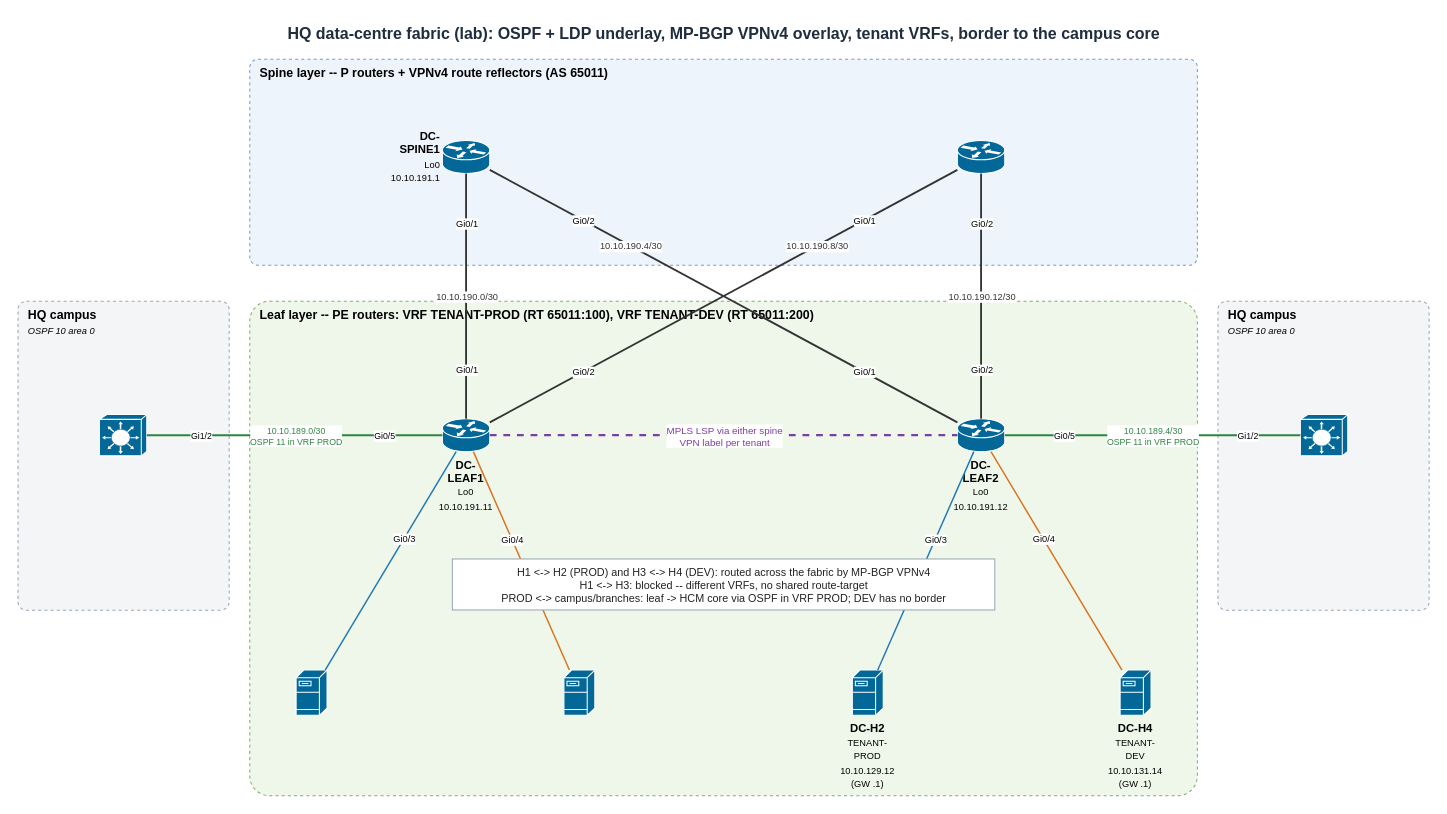
Image size: 1447x814. Some labels were removed from this diagram. Here are the shapes that lost their labels. From the top down, the box of each, then its label:
(956, 140, 1005, 174): DC-SPINE2 Lo0 10.10.191.2
(98, 414, 147, 456): HCM-CORE1
(1299, 414, 1348, 456): HCM-CORE2
(295, 669, 327, 715): DC-H1 TENANT-PROD 10.10.128.11 (GW .1)
(563, 669, 595, 715): DC-H3 TENANT-DEV 10.10.130.13 (GW .1)
